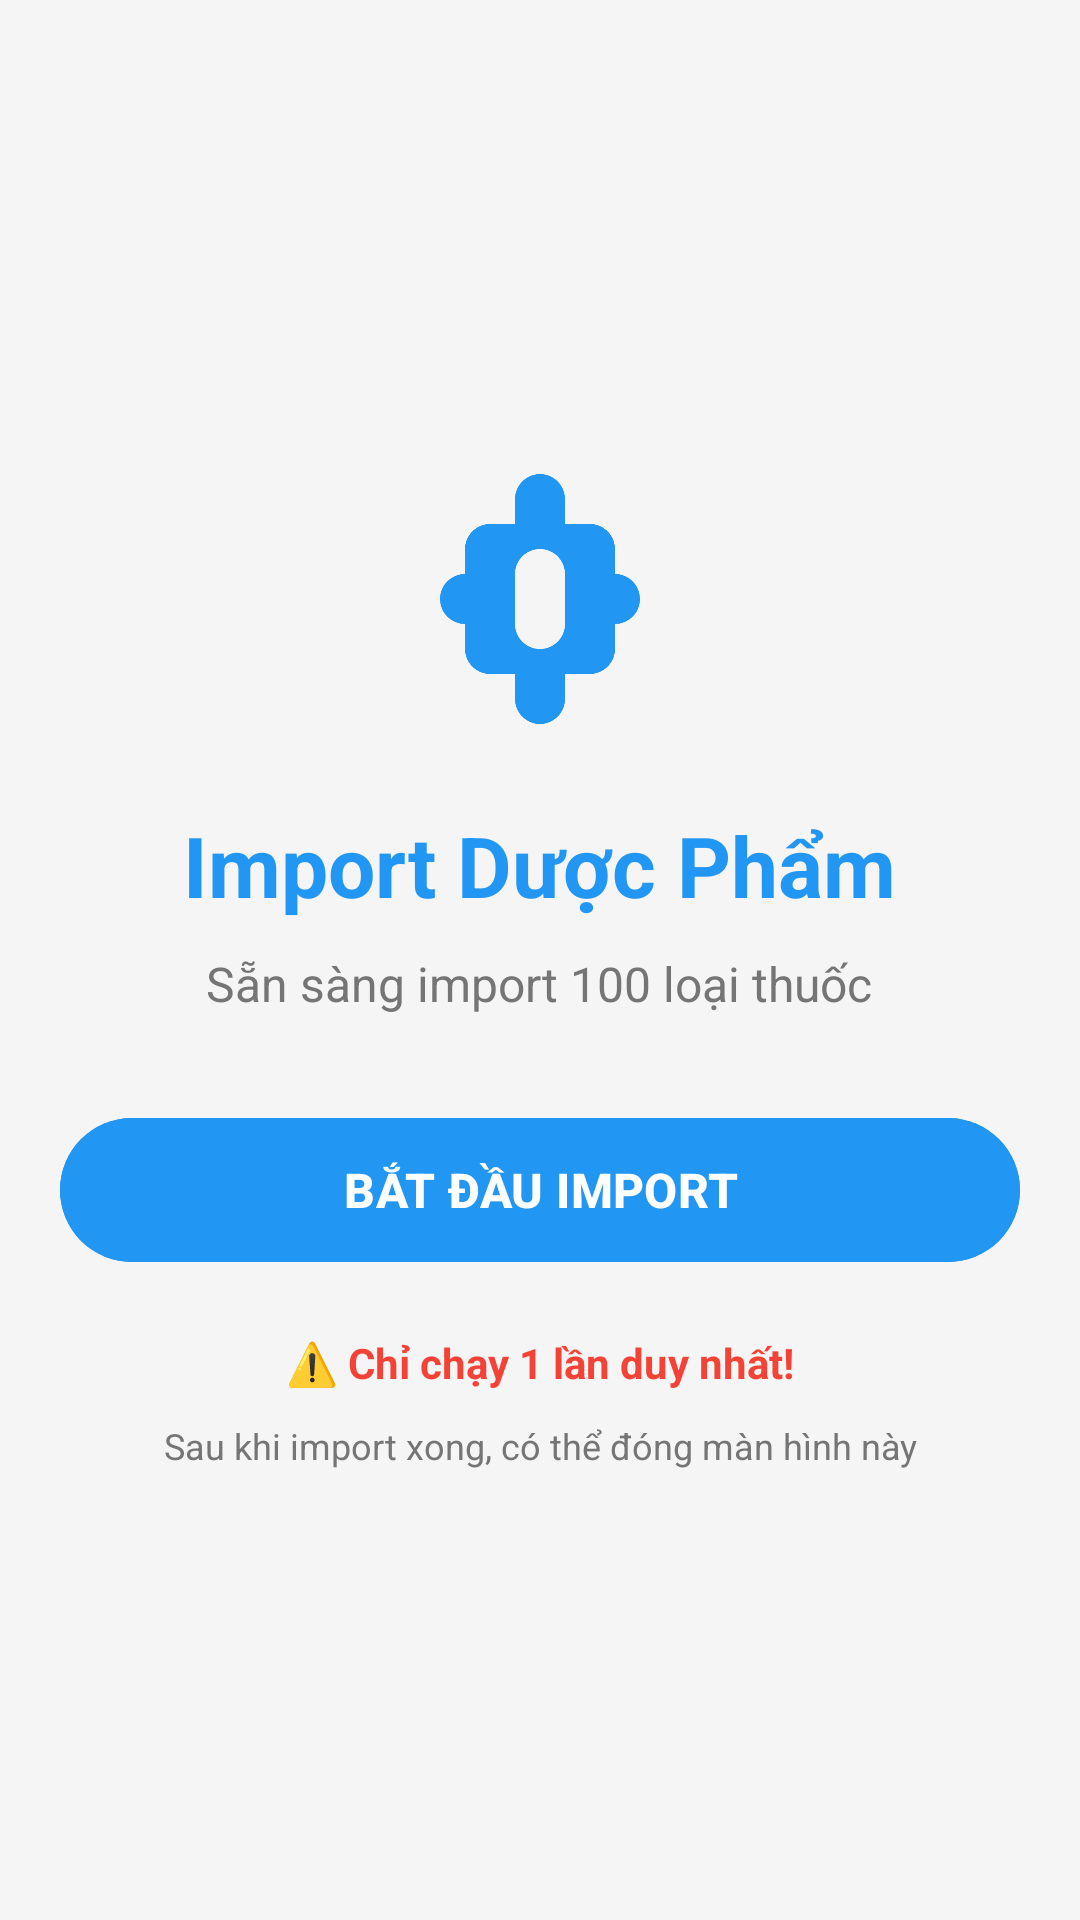

Icons on this 1080x1920 Android screen, each with its box as (x1, y1, x2, y2):
medication: (440, 474, 640, 724)
